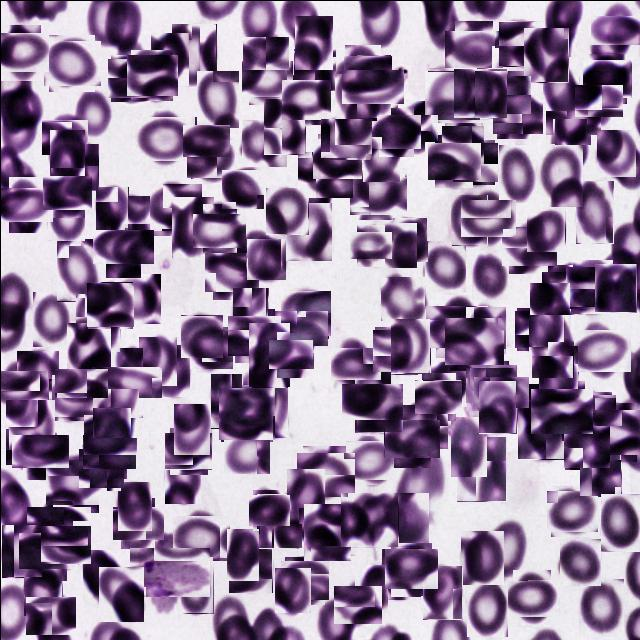red blood cell: (517, 383, 567, 459), (456, 436, 506, 501), (340, 492, 398, 547), (171, 23, 217, 87), (528, 314, 574, 378), (48, 454, 102, 508), (219, 386, 273, 440), (534, 384, 588, 438), (446, 314, 500, 367), (284, 200, 331, 260), (32, 500, 85, 553), (56, 238, 100, 301), (352, 164, 404, 217), (430, 299, 482, 352), (298, 448, 351, 500), (425, 68, 477, 121), (539, 143, 582, 206), (574, 324, 626, 376), (138, 112, 190, 164), (45, 36, 97, 88), (146, 180, 198, 232), (174, 512, 226, 564), (300, 505, 352, 557), (588, 406, 640, 458), (453, 68, 507, 118), (82, 549, 128, 607), (75, 293, 120, 352), (578, 433, 620, 496), (248, 322, 289, 386), (578, 578, 623, 636), (100, 357, 151, 408), (484, 520, 527, 580), (171, 196, 213, 257), (300, 148, 350, 199), (5, 399, 55, 450), (256, 493, 302, 548), (562, 392, 612, 442), (196, 70, 239, 128), (523, 27, 568, 82), (98, 566, 143, 621), (348, 376, 397, 426), (16, 350, 58, 408), (66, 322, 110, 377), (381, 536, 420, 598), (348, 61, 397, 110), (575, 180, 613, 243), (466, 578, 507, 636), (263, 98, 305, 154), (113, 273, 160, 323), (460, 530, 503, 584), (600, 493, 640, 551), (449, 25, 497, 73), (281, 289, 329, 337), (504, 222, 552, 270), (24, 526, 72, 574), (86, 410, 134, 458), (98, 222, 146, 270), (568, 262, 616, 310), (507, 574, 554, 622), (338, 49, 386, 96), (398, 402, 446, 449), (387, 414, 434, 462), (92, 388, 138, 437), (387, 492, 428, 546), (529, 282, 570, 336), (208, 248, 255, 295), (387, 545, 434, 592), (230, 312, 278, 358), (390, 318, 430, 373), (320, 118, 372, 160), (1, 524, 42, 577), (548, 487, 594, 534), (422, 565, 462, 619), (538, 345, 578, 399), (450, 416, 486, 476), (498, 144, 535, 202), (422, 240, 464, 291), (494, 90, 540, 136), (549, 94, 595, 140), (86, 282, 132, 328), (128, 52, 174, 98), (464, 194, 510, 240), (430, 138, 476, 184), (241, 119, 286, 166), (23, 562, 62, 616), (232, 229, 274, 279), (32, 291, 70, 346), (286, 468, 324, 523), (498, 20, 544, 65), (283, 76, 328, 122), (16, 428, 62, 473), (356, 387, 402, 432), (0, 29, 44, 76), (594, 263, 636, 312), (294, 15, 332, 69), (362, 126, 399, 181), (224, 429, 269, 474), (2, 182, 48, 226), (314, 136, 360, 180), (265, 187, 308, 234), (232, 286, 268, 342), (72, 88, 110, 141), (150, 32, 188, 85), (478, 380, 516, 433), (110, 195, 150, 245), (373, 328, 418, 372), (43, 521, 87, 566), (250, 381, 286, 436), (478, 369, 522, 414), (334, 73, 376, 120), (559, 536, 600, 584), (465, 306, 506, 354), (542, 56, 578, 110), (348, 438, 392, 482), (282, 558, 326, 602), (188, 136, 232, 180), (228, 548, 272, 592), (8, 424, 52, 468), (380, 276, 424, 320), (244, 56, 288, 100), (108, 56, 152, 100), (197, 208, 241, 252), (544, 267, 588, 311), (87, 429, 131, 473), (278, 305, 322, 349), (585, 56, 629, 100), (564, 424, 608, 468), (28, 593, 72, 637), (173, 403, 210, 455), (596, 129, 636, 177), (452, 140, 496, 183), (335, 582, 378, 626), (0, 366, 42, 411), (450, 194, 487, 245), (180, 556, 213, 613), (354, 564, 387, 621), (164, 451, 200, 503), (138, 336, 176, 385), (166, 429, 209, 472), (375, 222, 416, 267), (154, 344, 189, 396), (47, 191, 84, 240), (468, 364, 511, 406), (115, 502, 158, 544), (49, 376, 92, 418), (596, 8, 638, 51), (180, 314, 222, 357), (486, 72, 529, 114), (552, 118, 586, 171), (426, 361, 466, 406), (471, 249, 507, 299), (60, 143, 98, 190), (189, 328, 231, 370), (334, 342, 376, 384), (293, 48, 335, 90), (80, 446, 122, 488), (60, 362, 102, 404), (46, 171, 88, 213), (374, 110, 416, 152), (210, 373, 242, 428), (225, 528, 258, 580), (44, 116, 85, 157), (246, 238, 286, 280), (49, 129, 84, 177), (514, 308, 556, 348), (117, 481, 151, 530), (577, 80, 618, 120), (417, 376, 458, 416), (526, 210, 565, 252), (274, 567, 310, 612), (222, 169, 262, 209), (390, 107, 430, 147), (186, 120, 226, 160), (244, 33, 284, 73), (442, 124, 482, 164), (474, 70, 507, 118), (95, 186, 128, 232), (392, 217, 426, 261), (272, 334, 310, 372), (250, 492, 286, 528), (352, 228, 388, 262)
ring: (136, 540, 202, 604)
